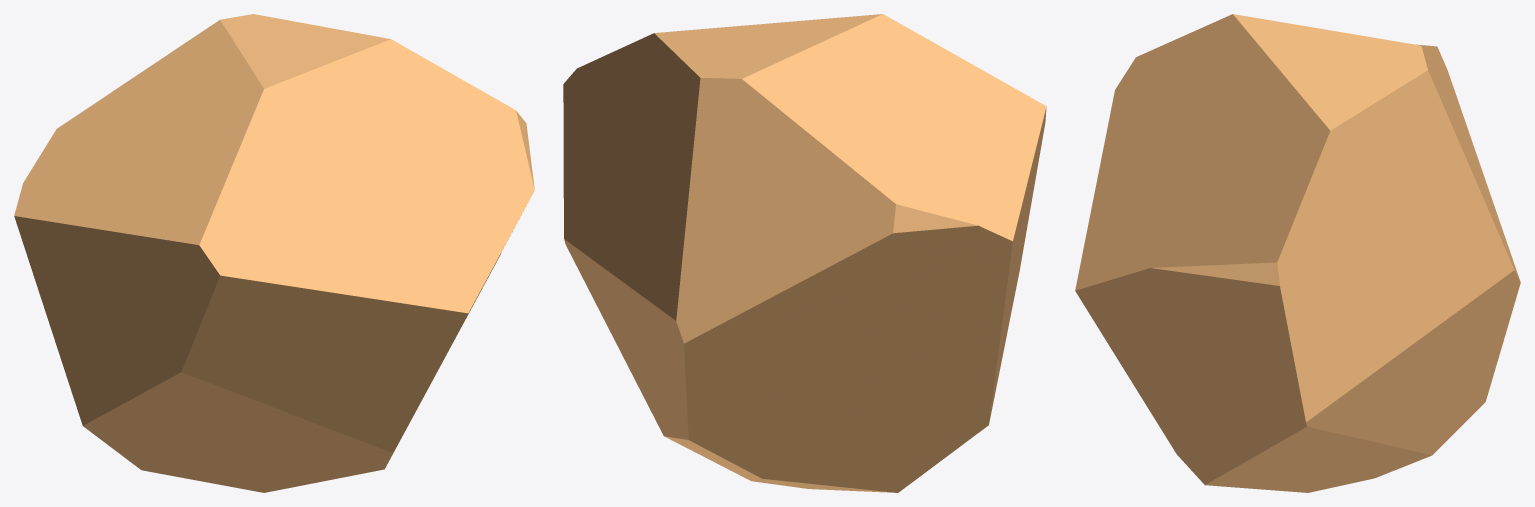
Rendered from rock.fbx.
The picture shows the model from 3 angles, left to right: view 1: azimuth 30°, elevation 25°; view 2: azimuth 150°, elevation 25°; view 3: azimuth 270°, elevation 25°; orthographic projection. The views are drawn at different scales.
Parts seen in each view (by area): view 1: rock; view 2: rock; view 3: rock.
Boxes of the visible parts, x1,y1,x2,y2 form: rock: [14, 14, 534, 492]; rock: [563, 14, 1046, 492]; rock: [1075, 14, 1520, 492].
Bounding box in the file's own units: 769 × 683 × 599.
